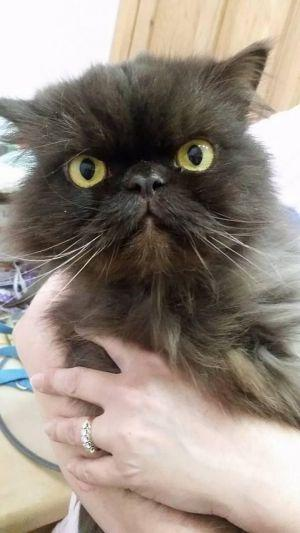persian: (1, 20, 296, 305)
